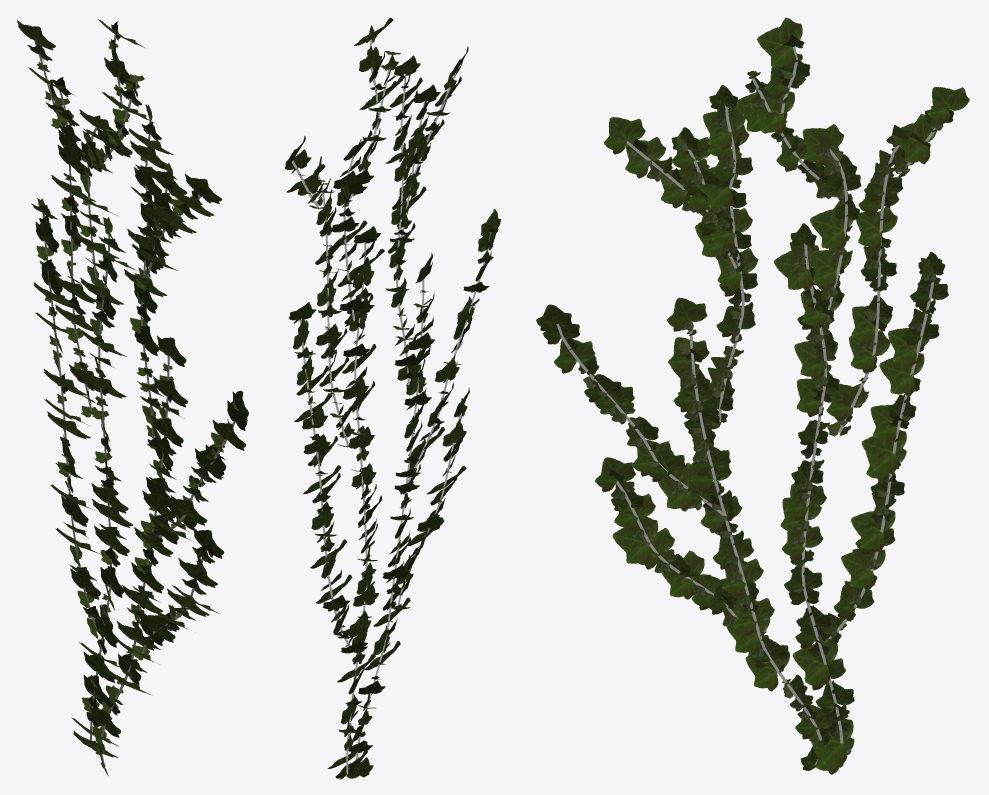
The model's file is SM_Ivy_Ground.fbx.
The picture shows the model from 3 angles, left to right: view 1: azimuth 30°, elevation 25°; view 2: azimuth 150°, elevation 25°; view 3: azimuth 270°, elevation 25°; orthographic projection. The views are drawn at different scales.
Parts seen in each view (by area): view 1: SM_Ivy_Ground; view 2: SM_Ivy_Ground; view 3: SM_Ivy_Ground.
Boxes of the visible parts, x1,y1,x2,y2 form: SM_Ivy_Ground: [17, 19, 248, 775]; SM_Ivy_Ground: [284, 18, 501, 779]; SM_Ivy_Ground: [536, 17, 969, 774].
Size of the model in its own units: 17.32 by 153 by 285.
